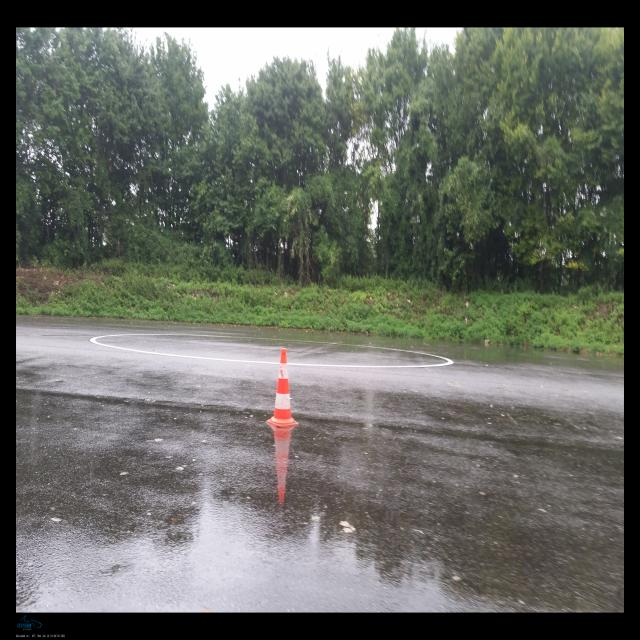large_orange_cone: (266, 348, 299, 427)
